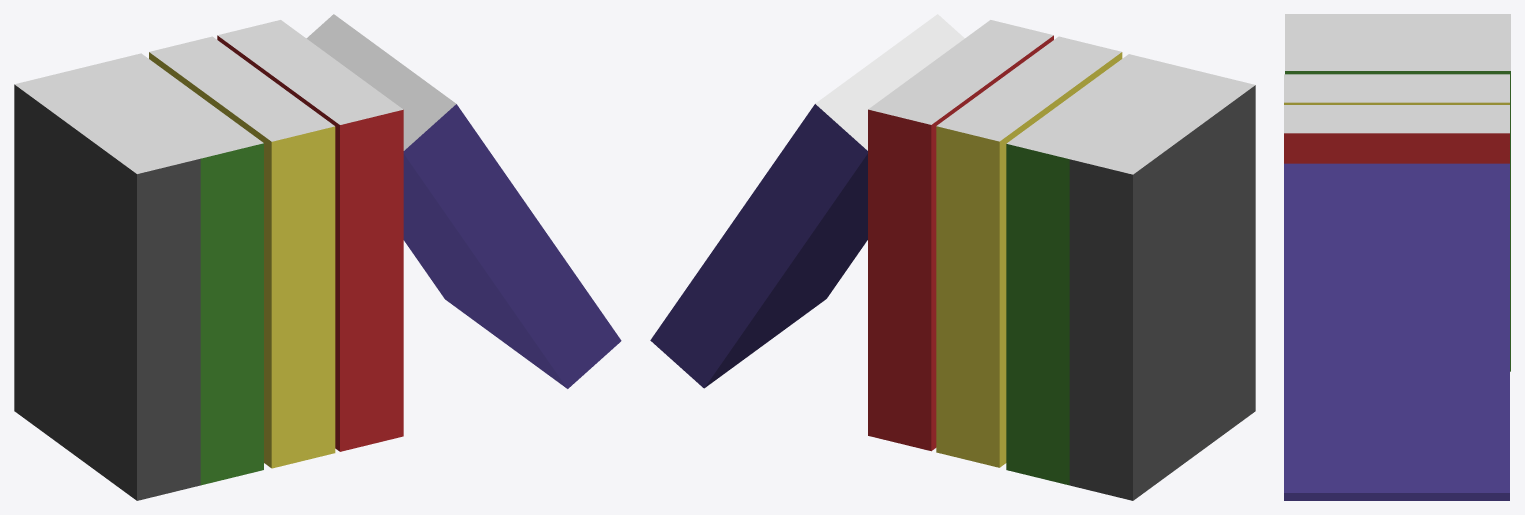
The model's file is libros-material.fbx.
The picture shows the model from 3 angles, left to right: view 1: azimuth 30°, elevation 25°; view 2: azimuth 150°, elevation 25°; view 3: azimuth 270°, elevation 25°; orthographic projection. The views are drawn at different scales.
Parts seen in each view (by area): view 1: Libro.004; view 2: Libro.004; view 3: Libro.004.
Part boxes in pixels (left/top/right/bottom): Libro.004: left=14, top=14, right=621, bottom=500; Libro.004: left=650, top=14, right=1255, bottom=500; Libro.004: left=1284, top=14, right=1510, bottom=500.
Bounding box in the file's own units: 31.27 × 20.17 × 13.8.
